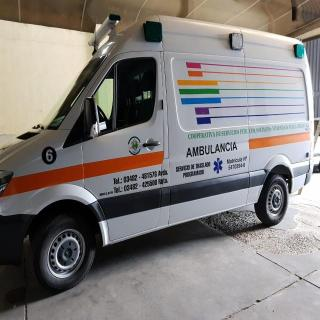Ambulance: (2, 5, 320, 297)
